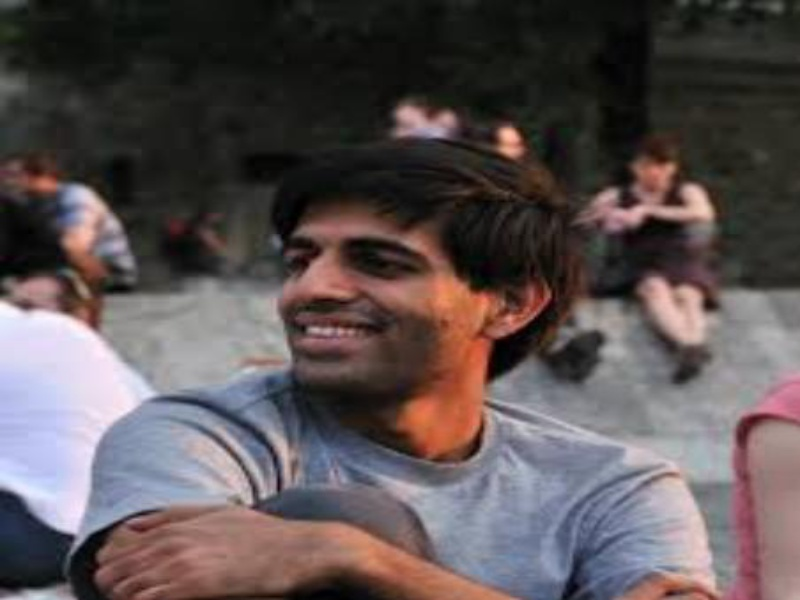TsisyArotava: (252, 134, 475, 408)
